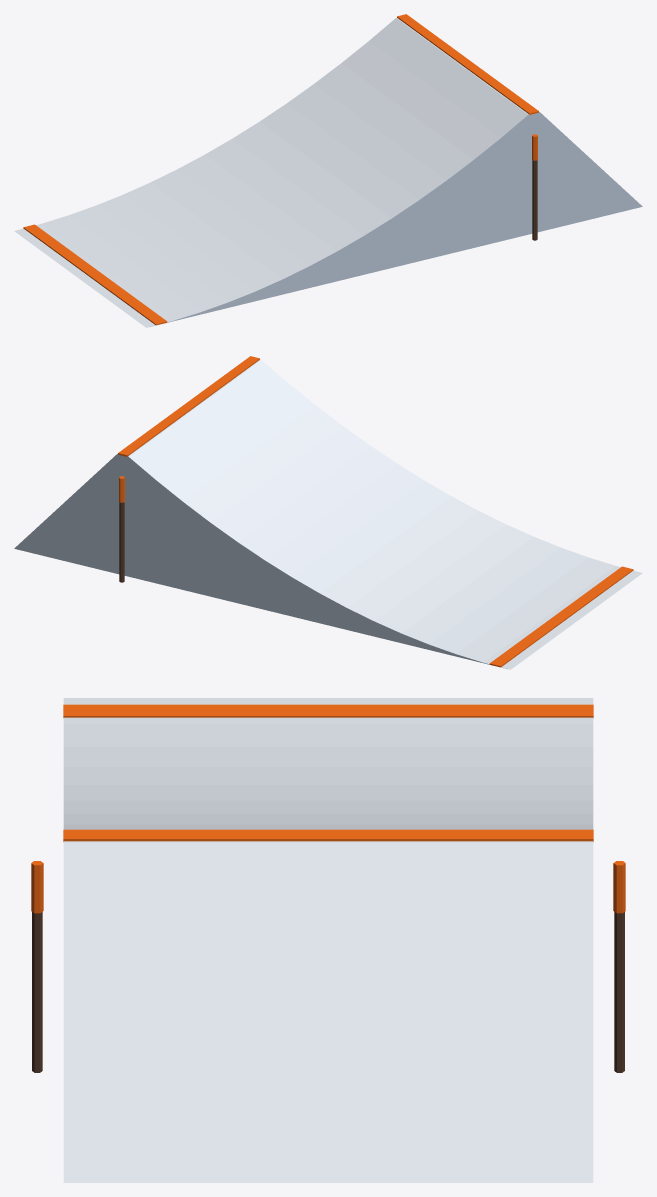
Rendered from kicker_big.glb.
3 views of the same model, one above another, from view 1: azimuth 30°, elevation 25°; view 2: azimuth 150°, elevation 25°; view 3: azimuth 270°, elevation 25° (orthographic). The views are drawn at different scales.
Visible parts, largest first — view 1: kicker_big; view 2: kicker_big; view 3: kicker_big.
Boxes of the visible parts, left/top/right/bottom form: kicker_big: left=14, top=14, right=642, bottom=327; kicker_big: left=14, top=356, right=642, bottom=669; kicker_big: left=31, top=698, right=625, bottom=1182.
Bounding box in the file's own units: 26 × 6.06 × 13.48.
Materials: 1 (1 with a texture image).
